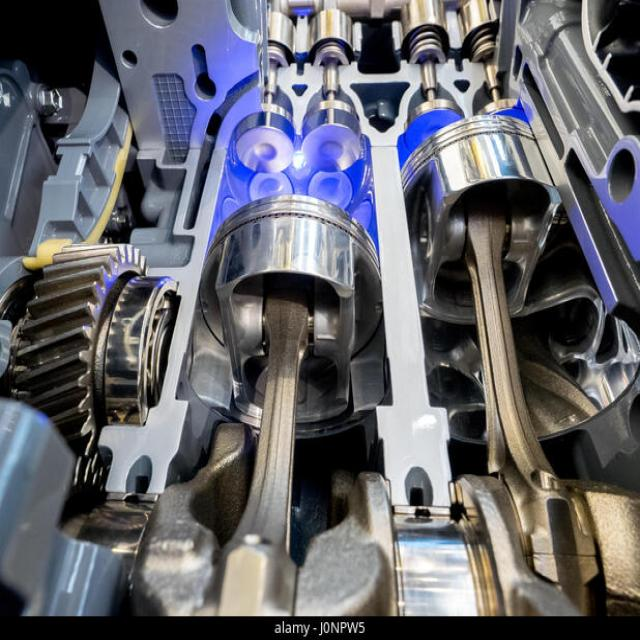Bearing: (104, 274, 174, 422)
Bolt: (44, 88, 66, 114)
Gear: (14, 239, 149, 457), (70, 453, 113, 500)
